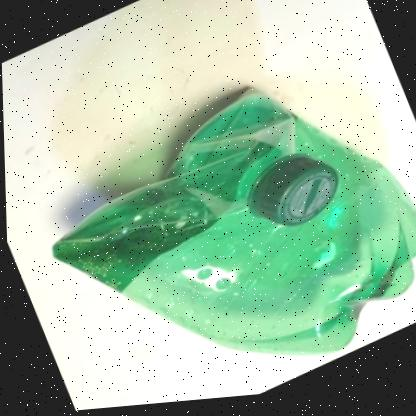Plastic: (49, 96, 416, 360)
